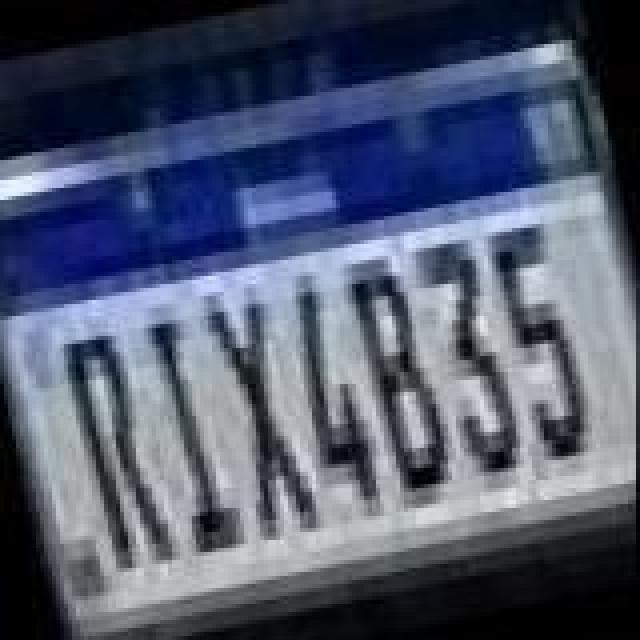3: (408, 228, 532, 492)
4: (280, 264, 388, 520)
5: (480, 216, 596, 472)
B: (340, 252, 456, 508)
I: (138, 302, 250, 562)
R: (60, 324, 184, 588)
X: (200, 280, 324, 544)
